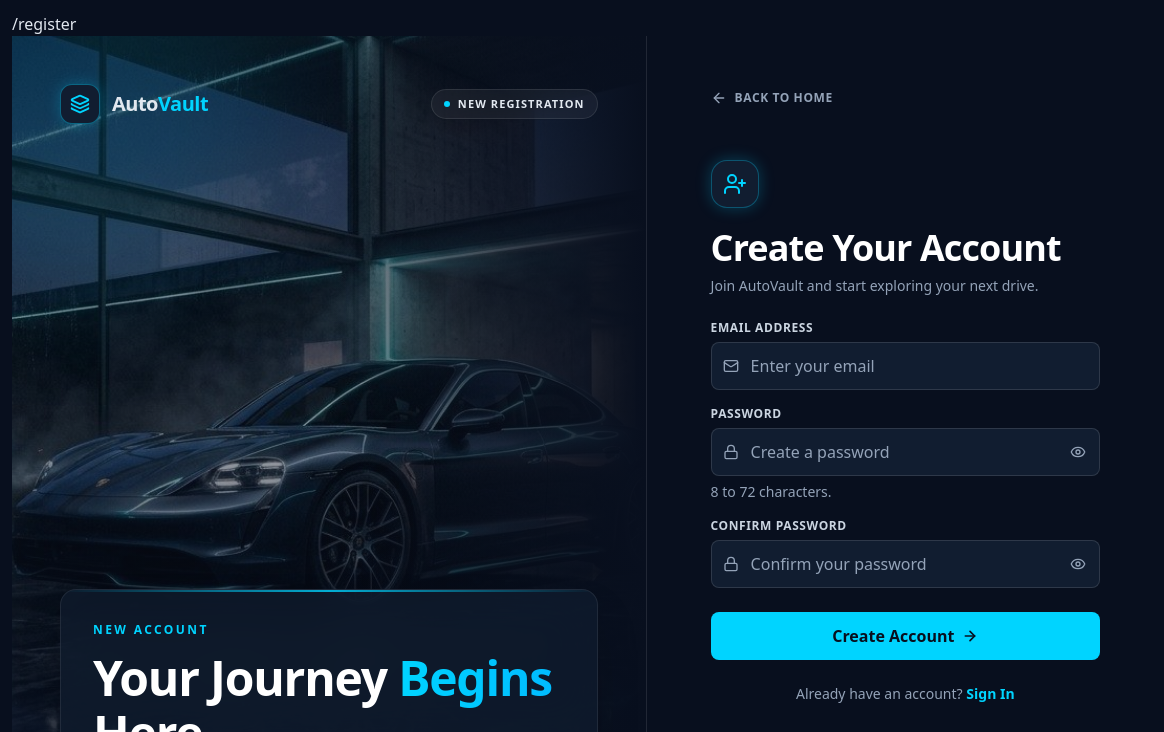
Test: RegisterPage › checks the input before bothering the server › asks for the missing fields, the confirmation included
The width and height of the screenshot is (1164, 732).
Click the button "Create Account" at point(905, 636), box [711,612,1100,660]
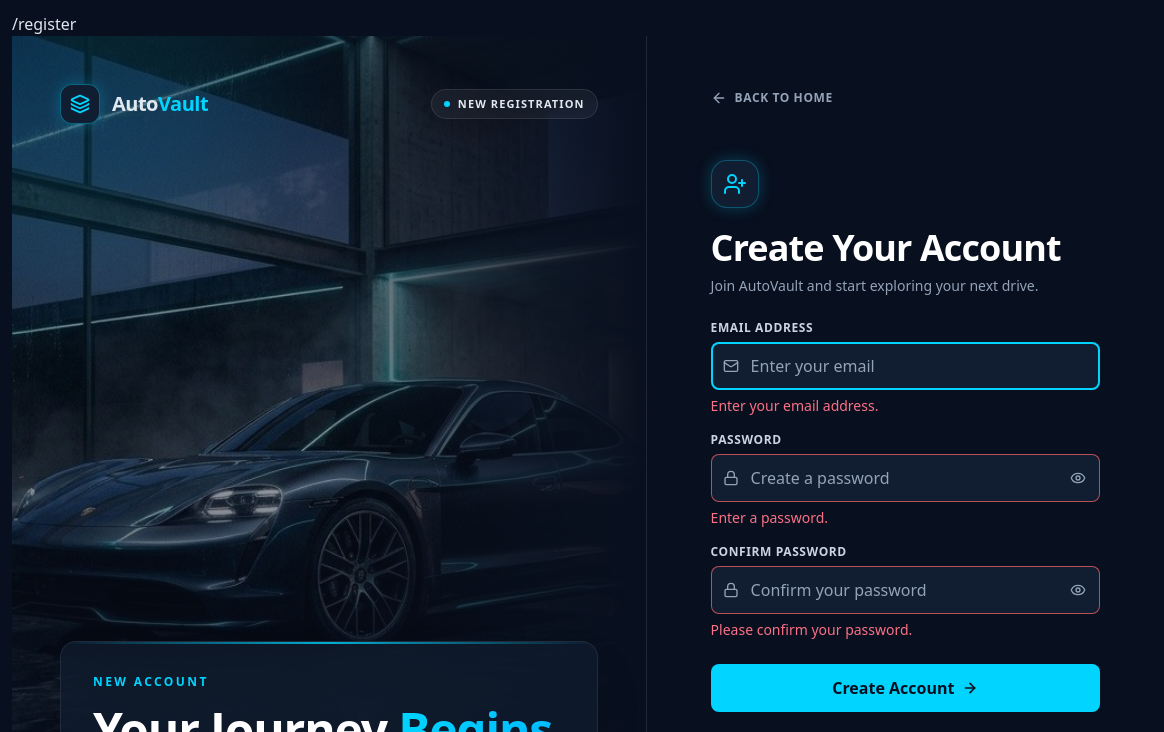
Check: the text "Enter your email address." is shown, box [711,396,878,415]
Check: the text "Enter a password." is shown, box [711,508,828,527]
Check: the text "Please confirm your password." is shown, box [711,620,912,639]
